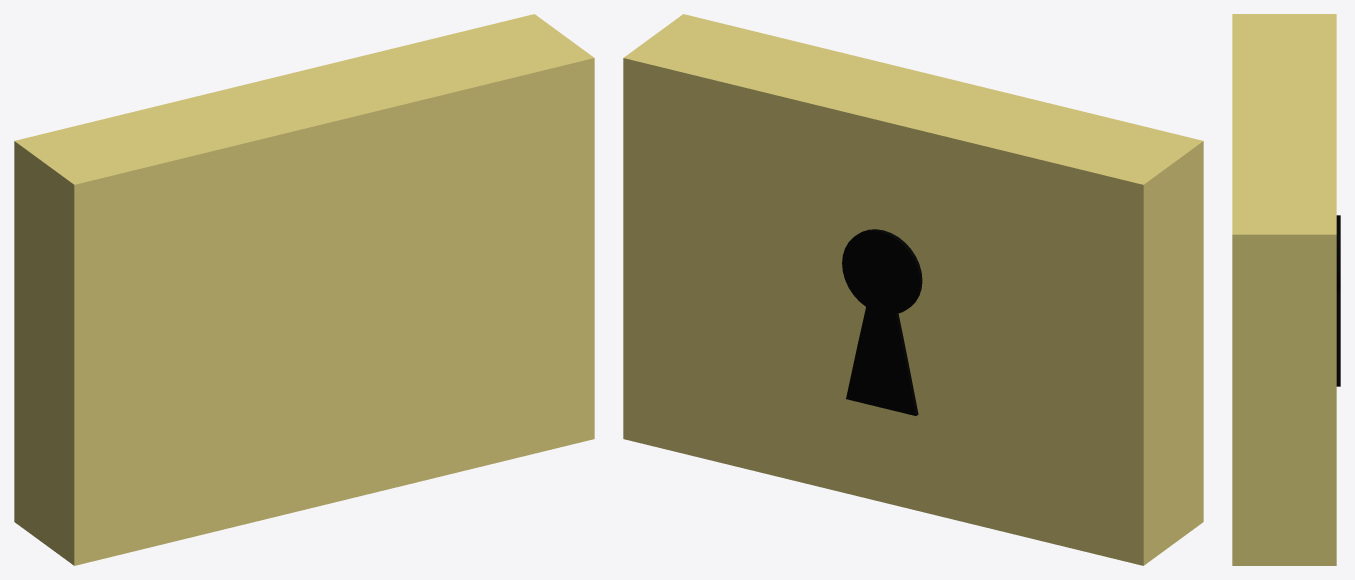
Rendered from keydoor.fbx.
3 views of the same model, side by side, from view 1: azimuth 30°, elevation 25°; view 2: azimuth 150°, elevation 25°; view 3: azimuth 270°, elevation 25° (orthographic). The views are drawn at different scales.
Parts seen in each view (by area): view 1: keydoor; view 2: keydoor, keyhole; view 3: keydoor, keyhole.
Part boxes in pixels (<box>): keydoor: <box>14,14,594,565</box>; keydoor: <box>623,14,1203,565</box>; keyhole: <box>842,229,922,415</box>; keydoor: <box>1232,14,1336,565</box>; keyhole: <box>1336,215,1340,386</box>.
Bounding box in the file's own units: 1000 × 208 × 700.
